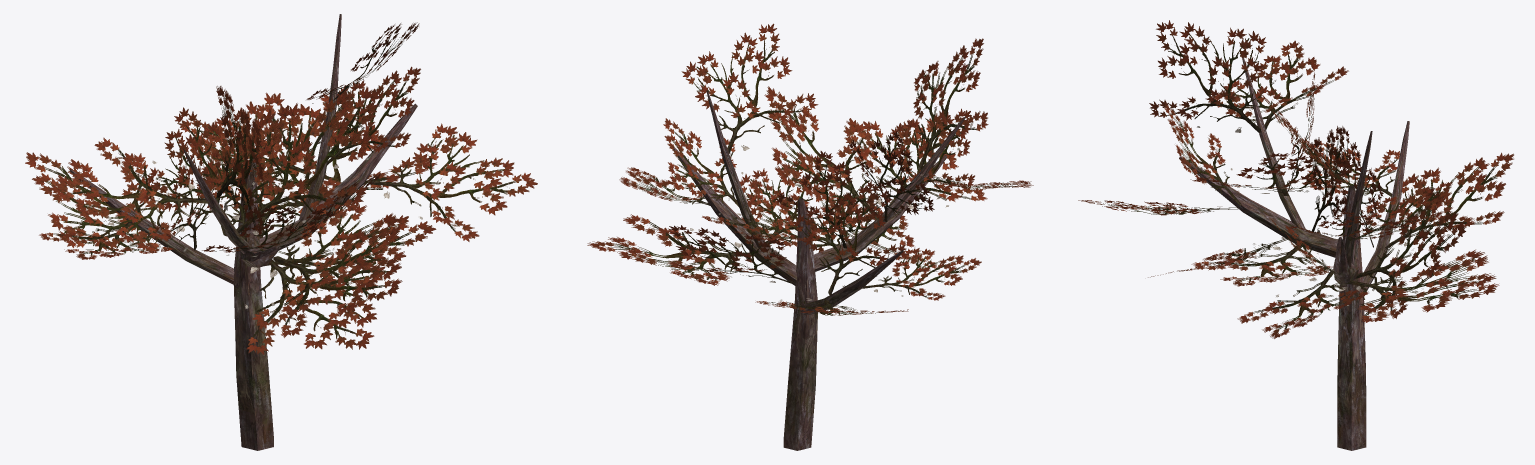
File: shamo_shu_2.fbx
The picture shows the model from 3 angles, left to right: view 1: azimuth 30°, elevation 25°; view 2: azimuth 150°, elevation 25°; view 3: azimuth 270°, elevation 25°; orthographic projection. The views are drawn at different scales.
Visible parts, largest first — view 1: polySurface257, polySurface286, polySurface296, polySurface292, polySurface276, polySurface270, polySurface298, polySurface272, polySurface290, polySurface285, polySurface294, polySurface259 (+26 smaller); view 2: polySurface257, polySurface266, polySurface286, polySurface284, polySurface288, polySurface294, polySurface279, polySurface281, polySurface278, polySurface259, polySurface276, polySurface297 (+24 smaller); view 3: polySurface257, polySurface287, polySurface294, polySurface272, polySurface280, polySurface261, polySurface270, polySurface285, polySurface293, polySurface296, polySurface279, polySurface258 (+22 smaller).
Boxes of the visible parts, x1,y1,x2,y2 form: polySurface257: (233, 159, 273, 450); polySurface286: (236, 86, 380, 233); polySurface296: (368, 123, 537, 241); polySurface292: (245, 246, 385, 353); polySurface276: (270, 213, 401, 336); polySurface270: (50, 137, 208, 252); polySurface298: (141, 107, 266, 236); polySurface272: (25, 152, 184, 249); polySurface290: (268, 202, 435, 292); polySurface285: (238, 87, 381, 234); polySurface294: (219, 93, 436, 219); polySurface259: (259, 103, 417, 250); polySurface257: (783, 198, 817, 450); polySurface266: (681, 23, 817, 153); polySurface286: (765, 86, 882, 219); polySurface284: (792, 186, 908, 294); polySurface288: (914, 39, 988, 169); polySurface294: (587, 214, 754, 284); polySurface279: (669, 225, 793, 283); polySurface281: (775, 151, 892, 248); polySurface278: (739, 154, 843, 253); polySurface259: (673, 147, 796, 286); polySurface276: (850, 118, 987, 208); polySurface297: (848, 131, 934, 222); polySurface257: (1337, 185, 1366, 450); polySurface287: (1149, 20, 1266, 132); polySurface294: (1339, 249, 1498, 321); polySurface272: (1384, 152, 1513, 248); polySurface280: (1356, 187, 1464, 318); polySurface261: (1179, 156, 1337, 257); polySurface270: (1210, 40, 1348, 128); polySurface285: (1190, 153, 1370, 196); polySurface293: (1339, 251, 1499, 322); polySurface296: (1237, 270, 1368, 337); polySurface279: (1356, 188, 1465, 318); polySurface258: (1363, 121, 1409, 292).
Size of the model in its own units: 27.29 by 23.32 by 24.29.
